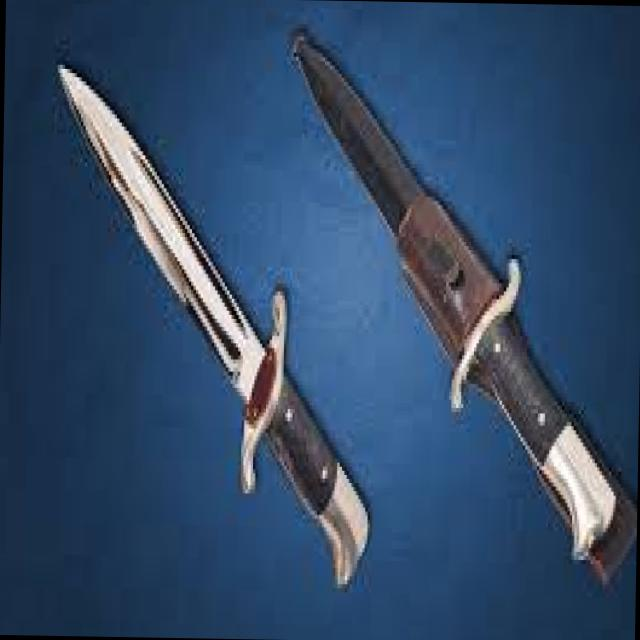Gun: (15, 14, 422, 619)
